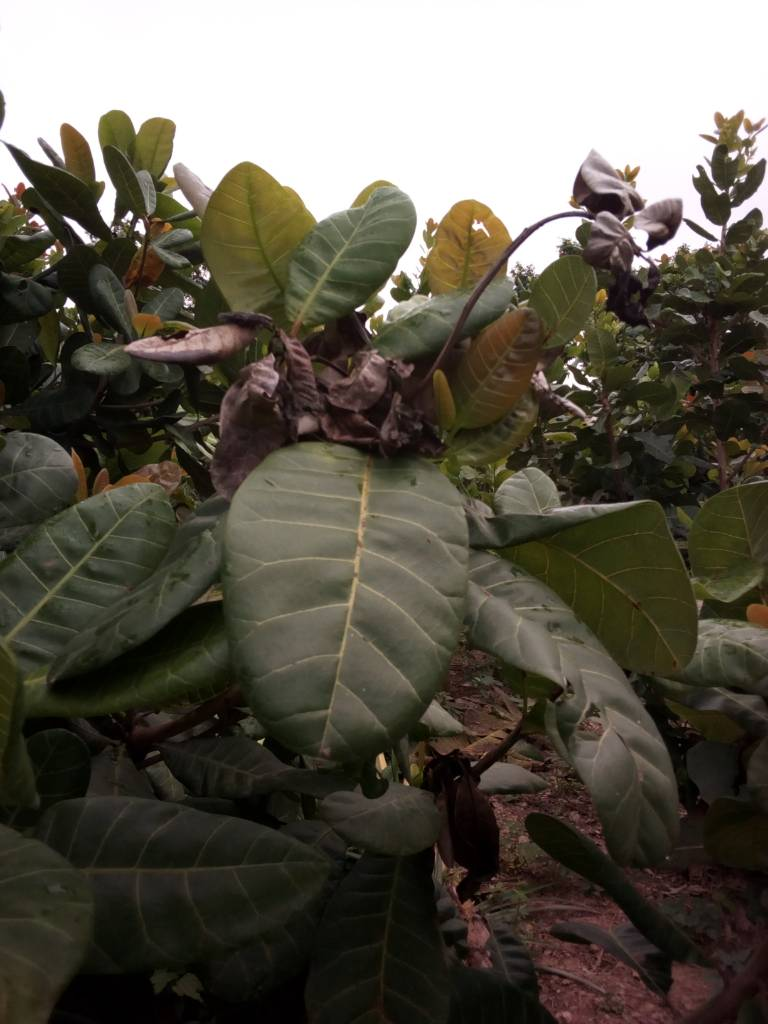Dessèchement des bourgeons: (577, 164, 665, 305)
